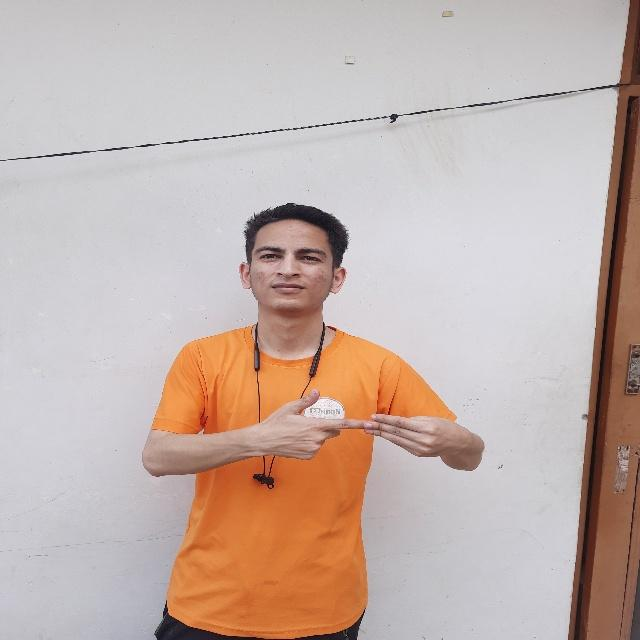Five Fathers: (236, 382, 459, 477)
